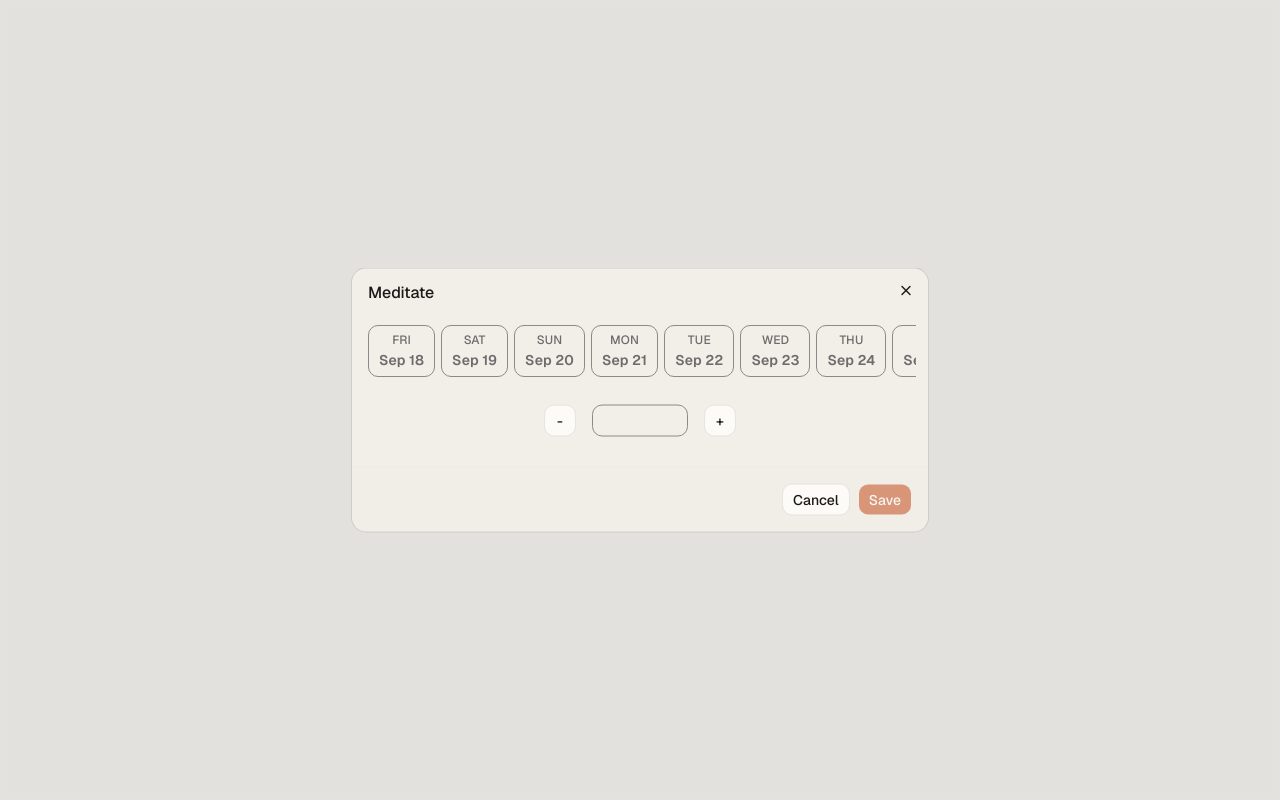
Test: HabitEntryDialog multi-day batch save › disables Save until at least one day has a pending edit
The width and height of the screenshot is (1280, 800).
Expected: the button "Save" is disabled, x1=858 y1=484 x2=912 y2=516
Type "3" into the number field named "Value".
click(640, 420); type("3")  # box x1=592 y1=404 x2=688 y2=436
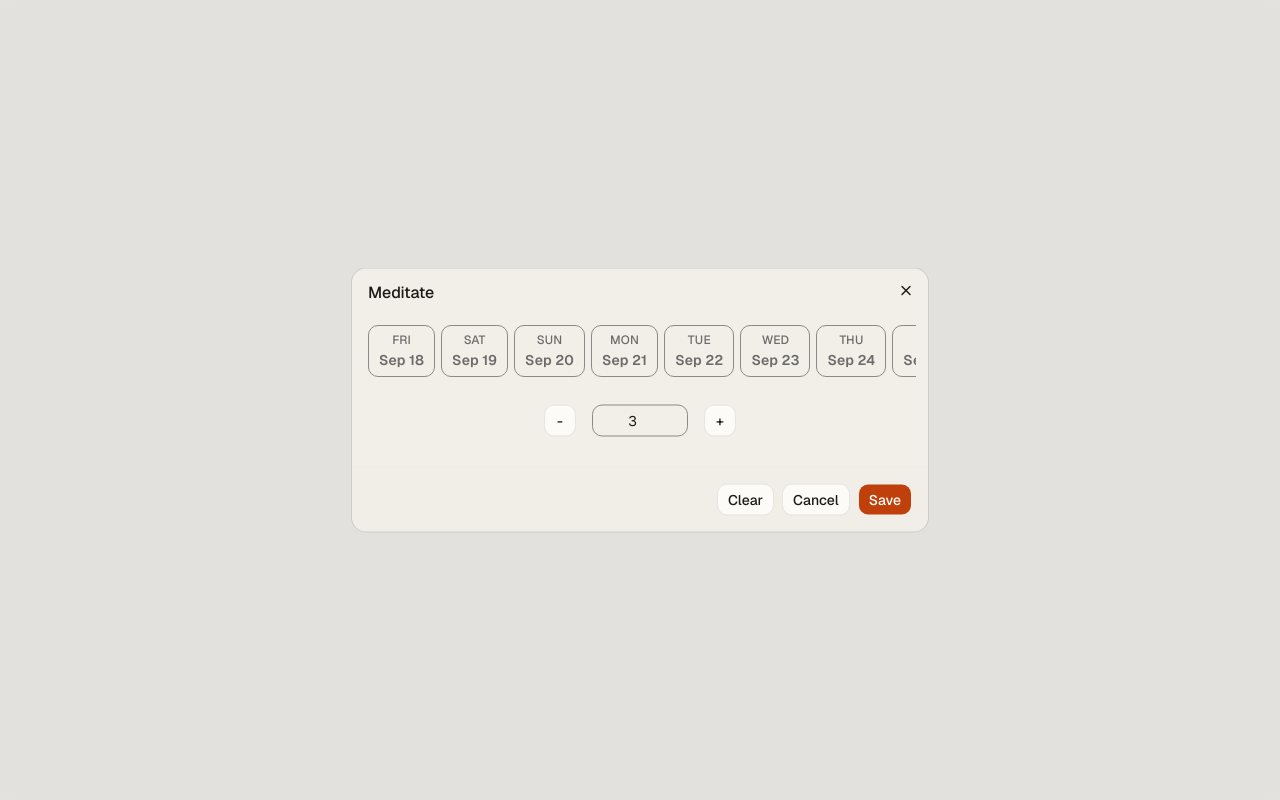
Expected: the button "Save" is enabled, x1=858 y1=484 x2=912 y2=516
